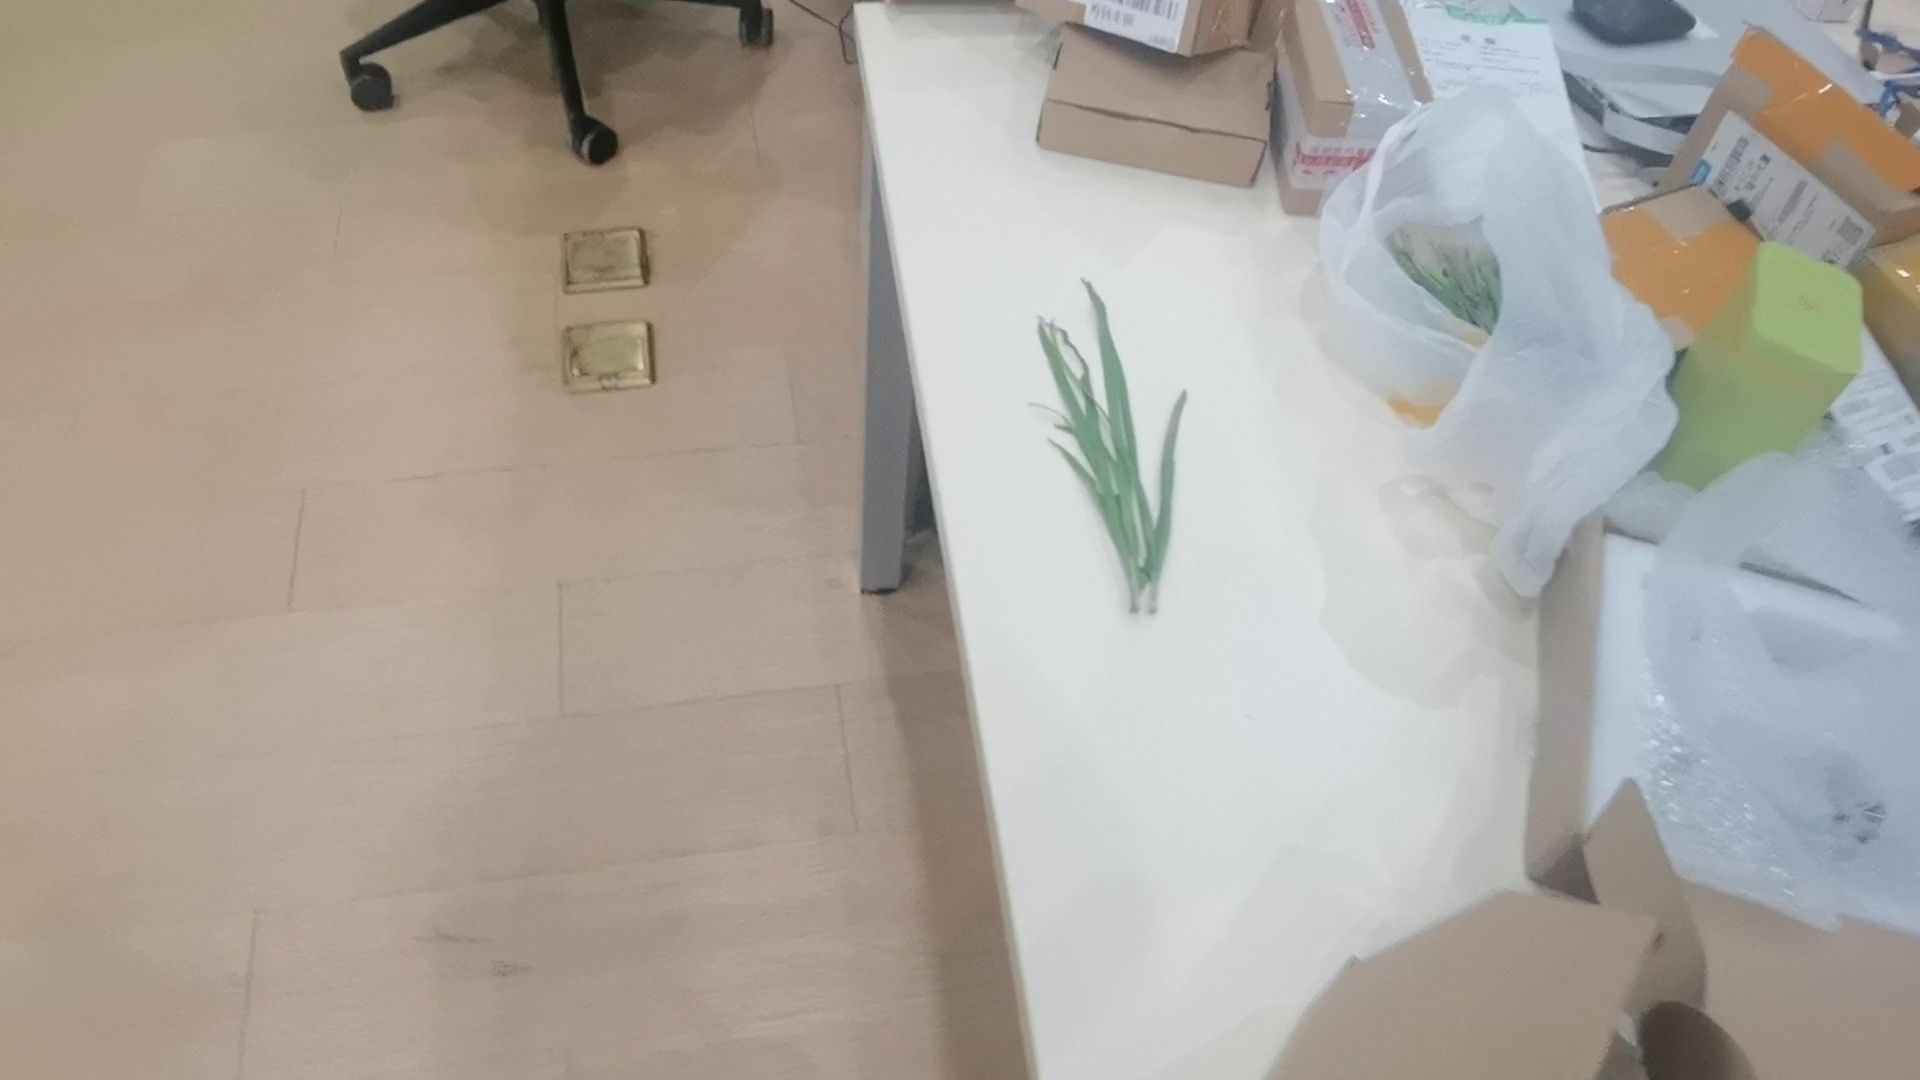chives: (1027, 266, 1215, 624)
